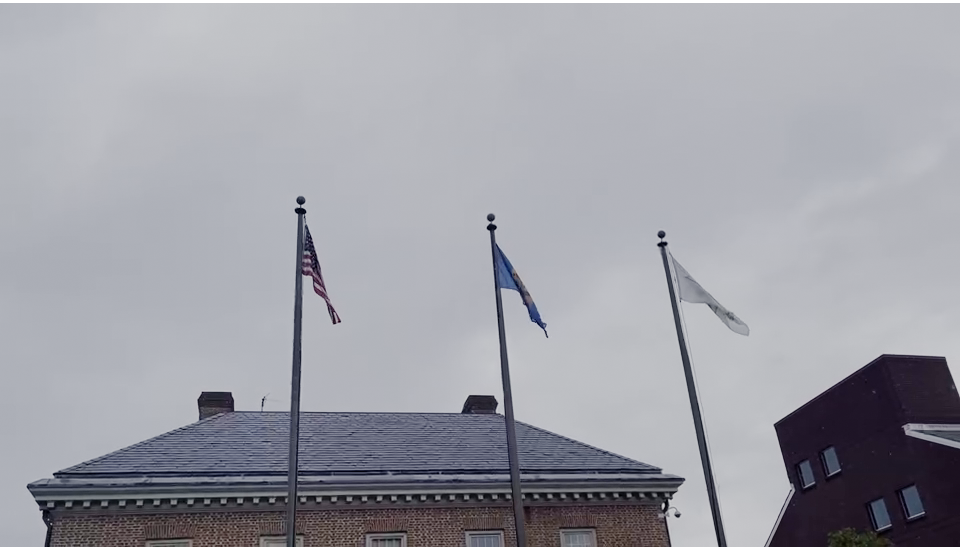America flag: (298, 218, 343, 327)
Delaware flag: (496, 241, 551, 337)
